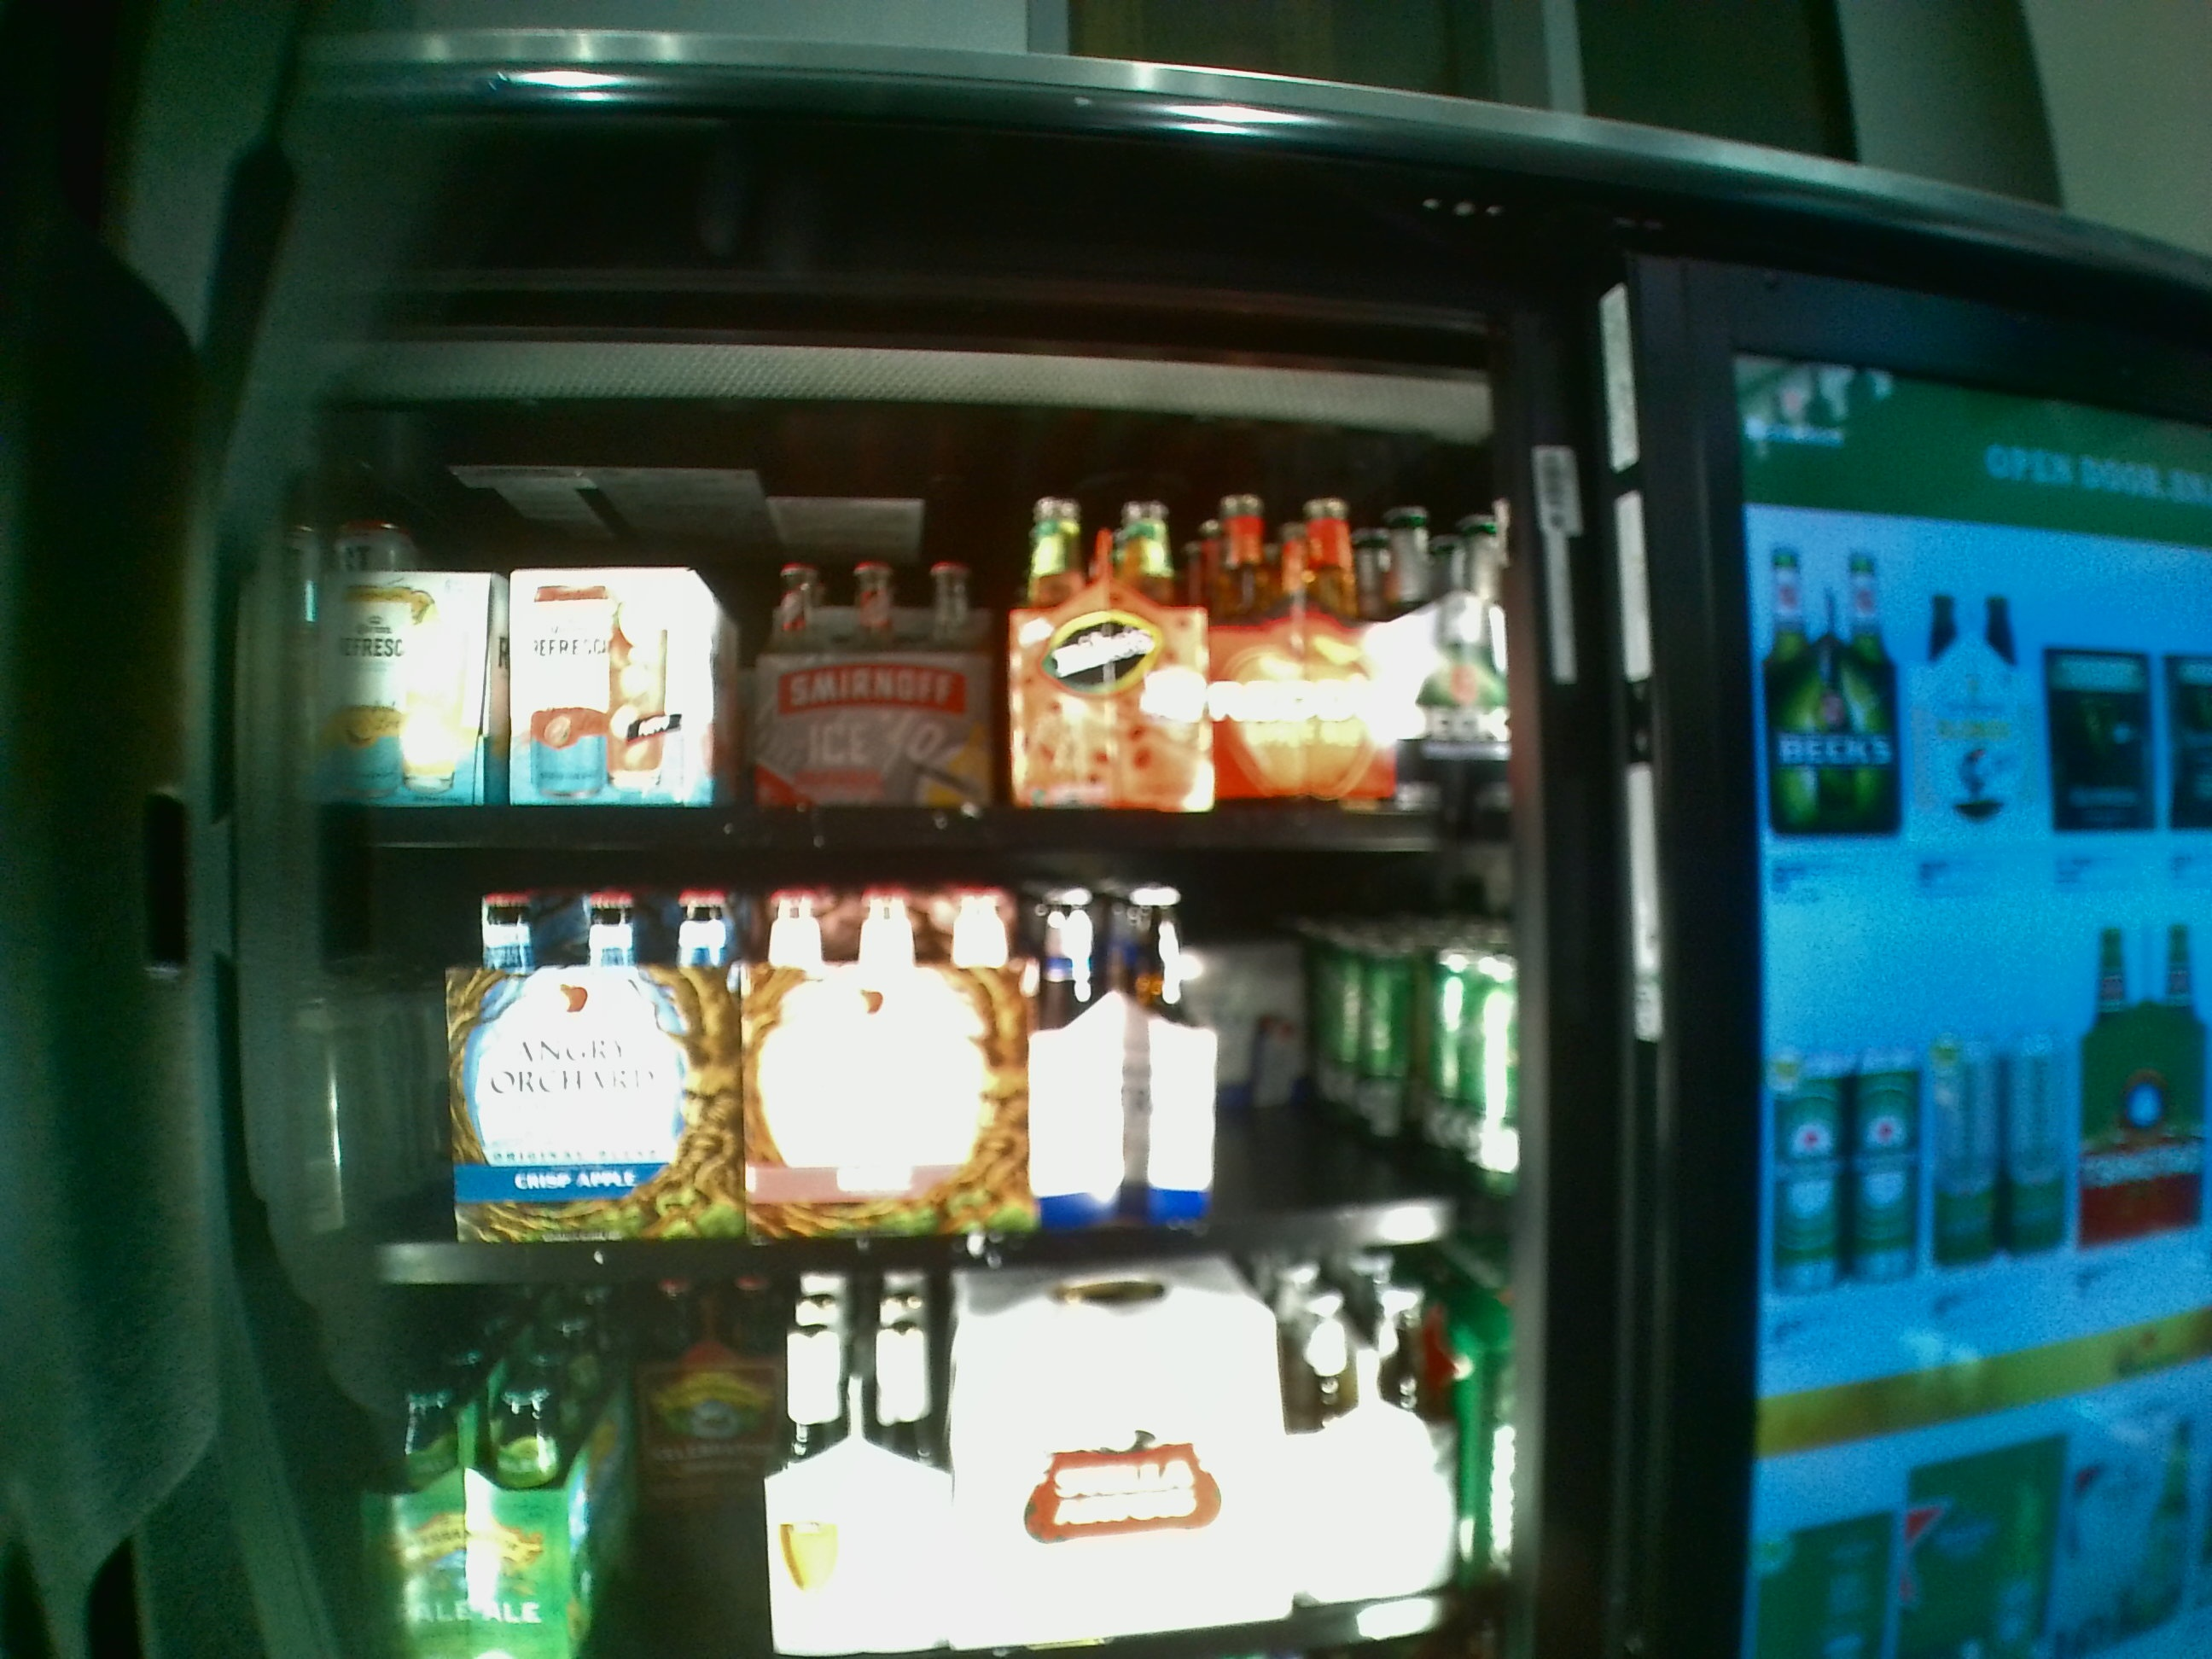shelf: (296, 870, 1519, 1298), (289, 430, 1503, 859)
